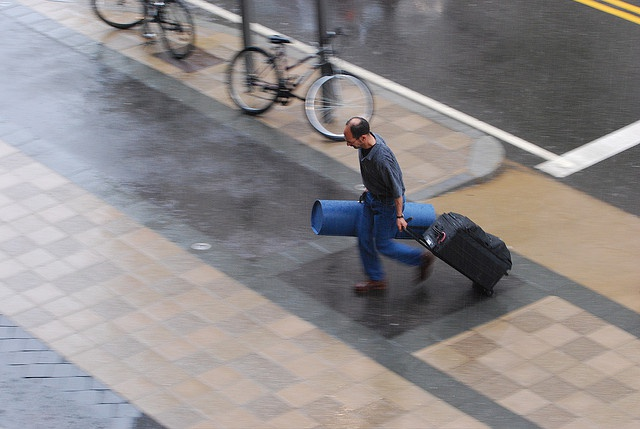non-vehicle: (225, 28, 373, 139), (90, 1, 197, 61)
